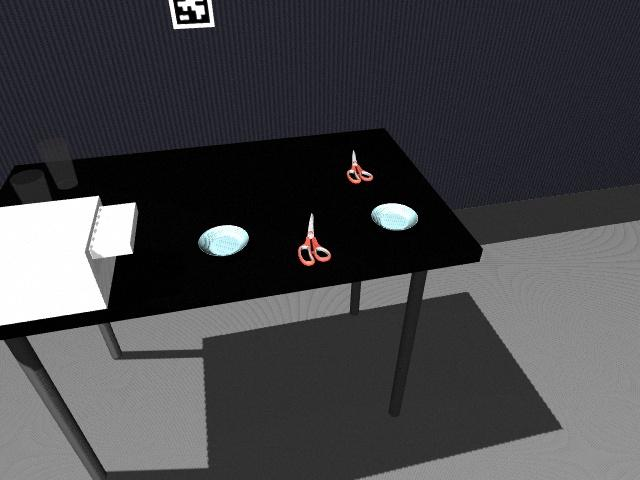cup: (35, 138, 78, 191), (11, 169, 52, 205)
plate: (196, 223, 252, 258), (370, 202, 420, 232)
scissors: (297, 210, 332, 266), (346, 148, 374, 184)
